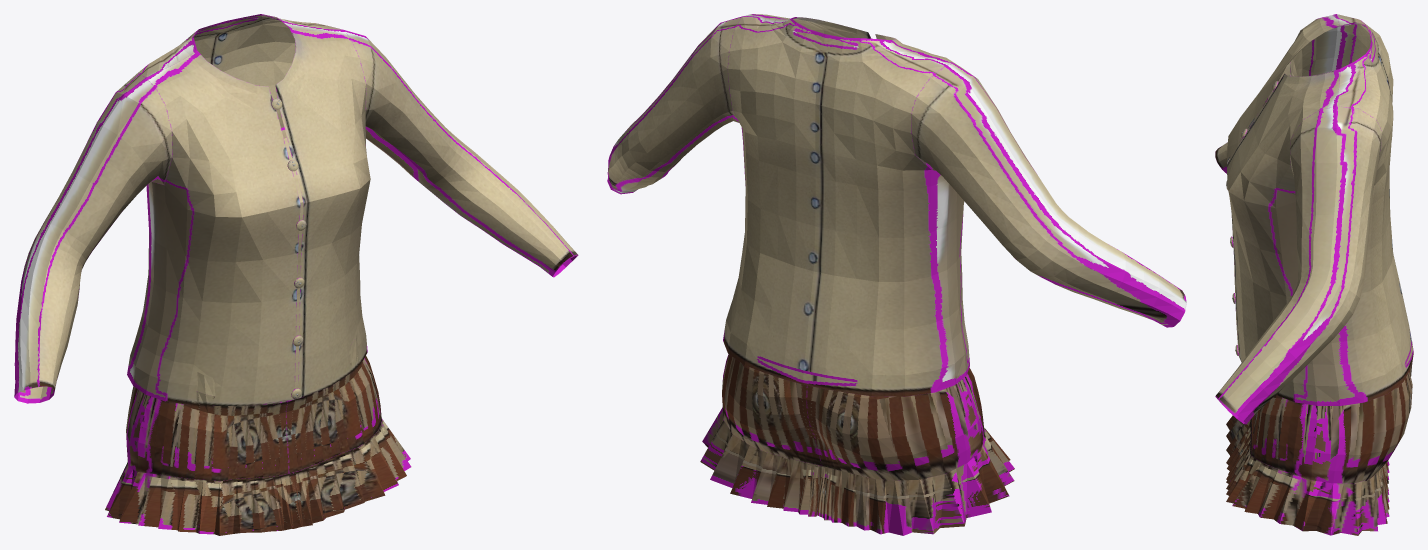
3 views of the same model, side by side, from view 1: azimuth 30°, elevation 25°; view 2: azimuth 150°, elevation 25°; view 3: azimuth 270°, elevation 25° (orthographic). The views are drawn at different scales.
Bounding box in the file's own units: 1.18 × 0.9444 × 0.3784.
1 material, 1 textured.
